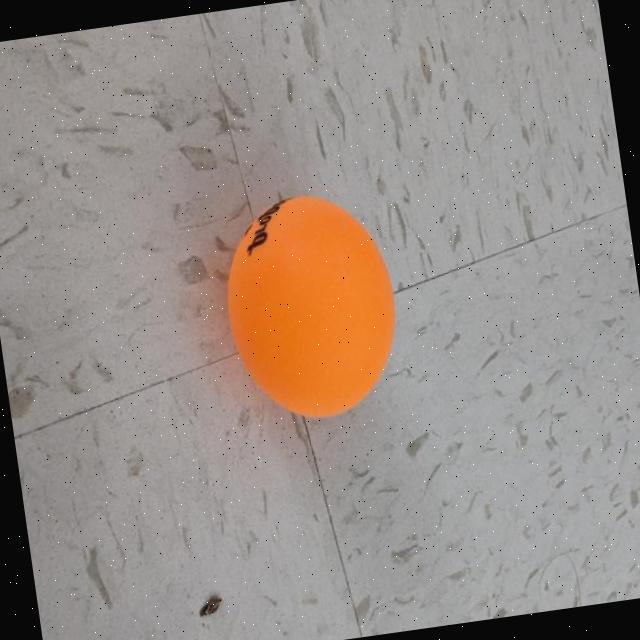ping-pong-ball: (208, 178, 416, 436)
